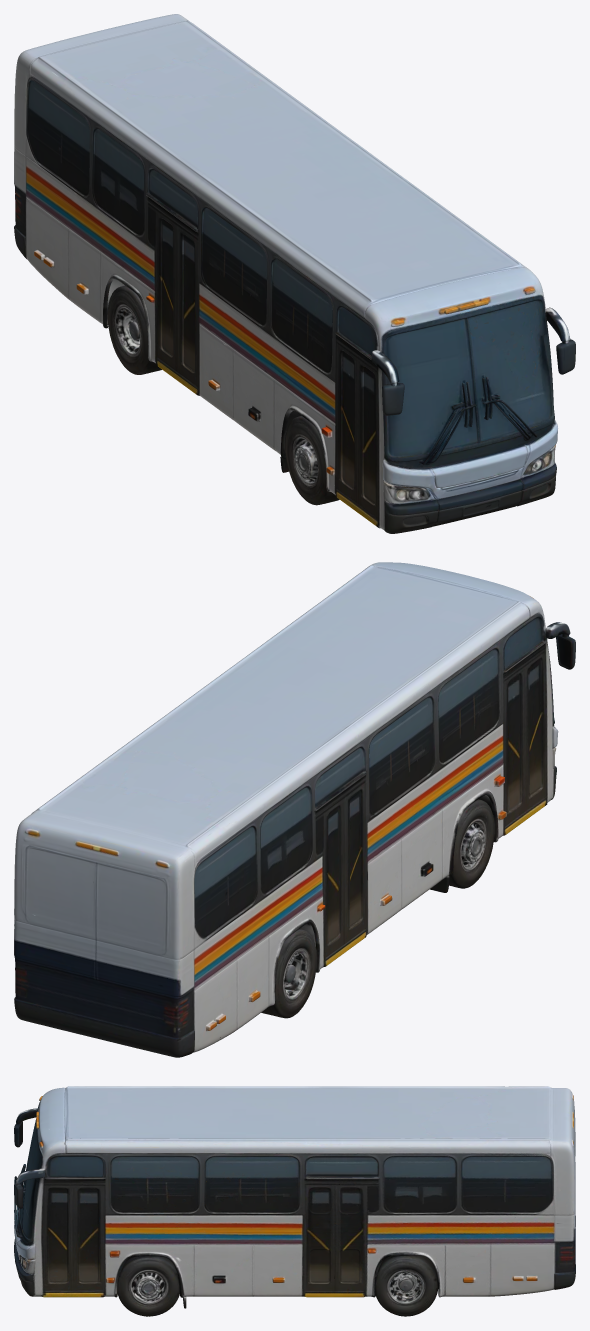
The model's file is car-bus-v2.glb.
3 views of the same model, one above another, from view 1: azimuth 30°, elevation 25°; view 2: azimuth 150°, elevation 25°; view 3: azimuth 270°, elevation 25° (orthographic). The views are drawn at different scales.
Visible parts, largest first — view 1: node_0; view 2: node_0; view 3: node_0.
Part boxes in pixels (x1,y1,x2,y2): node_0: [14, 14, 575, 533]; node_0: [14, 562, 575, 1057]; node_0: [14, 1086, 575, 1316].
Size of the model in its own units: 0.324 by 0.3901 by 1.13.
1 material, 1 textured.
